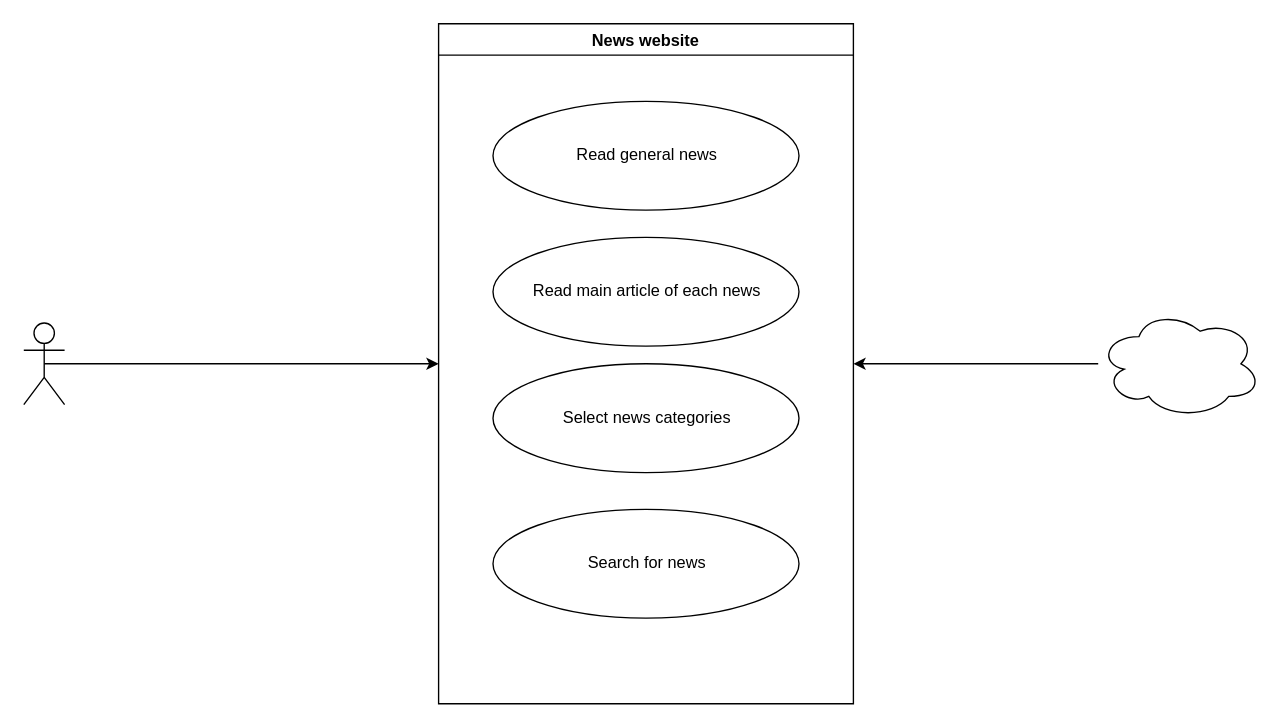
Some shapes in this 1285 by 728 pixel diagram are drawn without their labels. Here are the shapes that lost their labels. From the top down, the centre of each, then its label:
At (43,363): "User".
At (1179,363): "News API".
